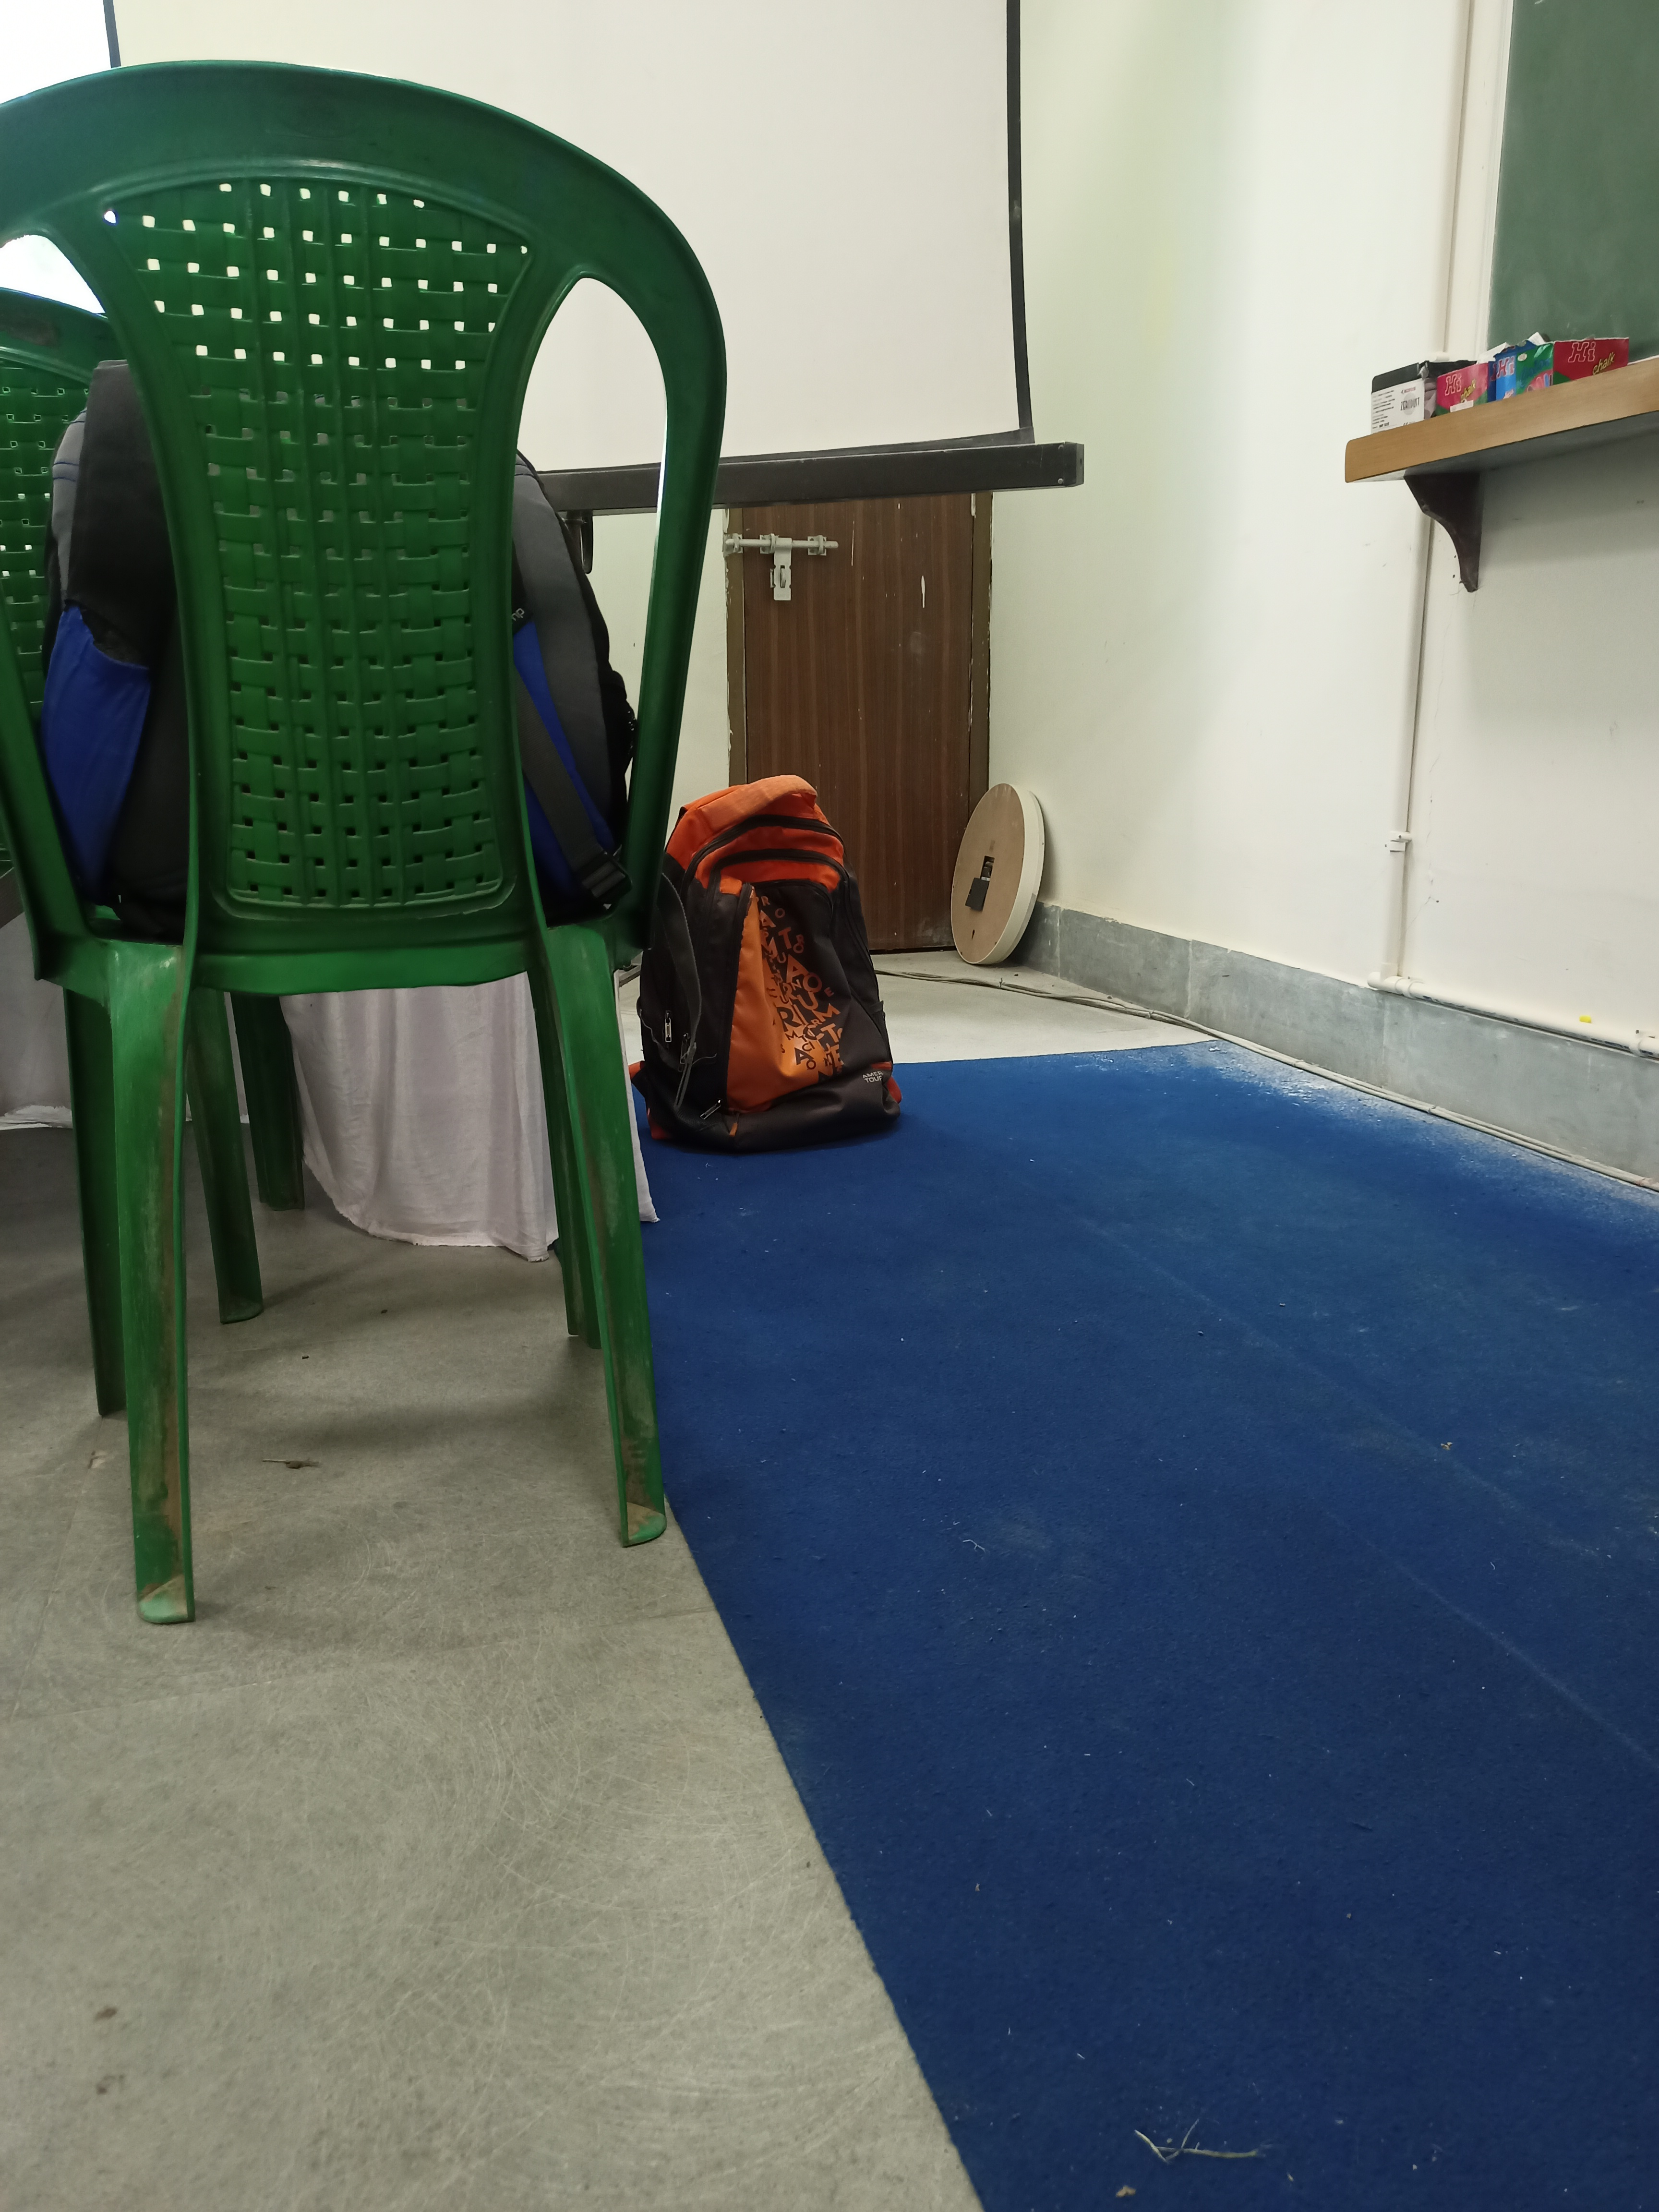Obstacle: (17, 378, 667, 1493)
Path: (775, 1101, 1605, 2177)
